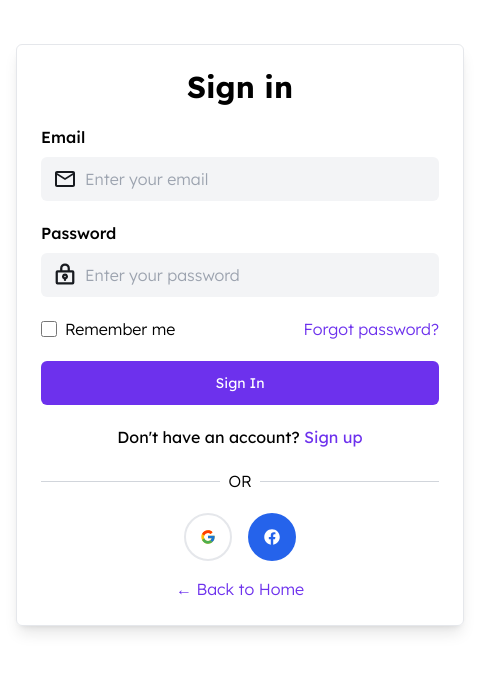
it: SignIn Component › displays error messages for invalid input
Type "invalid-email" into the field with placeholder "Enter your email" at (256, 179), box [85,157,427,201]
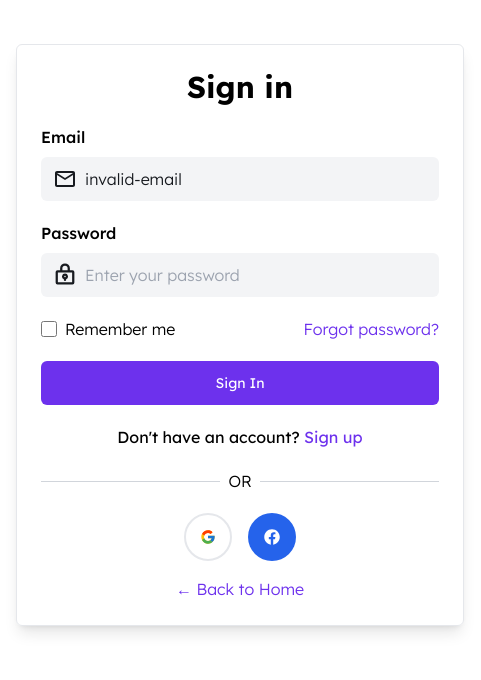
Type "123" into the password field with placeholder "Enter your password" at (256, 275), box [85,253,427,297]
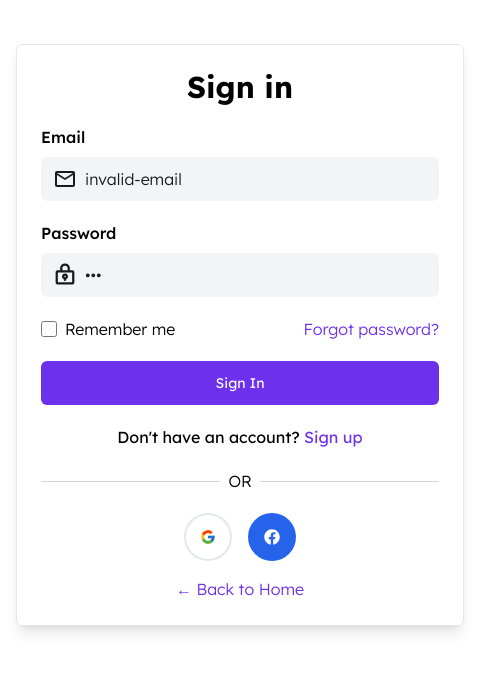
Click the link "Sign In" at (240, 383), box [41,361,439,405]
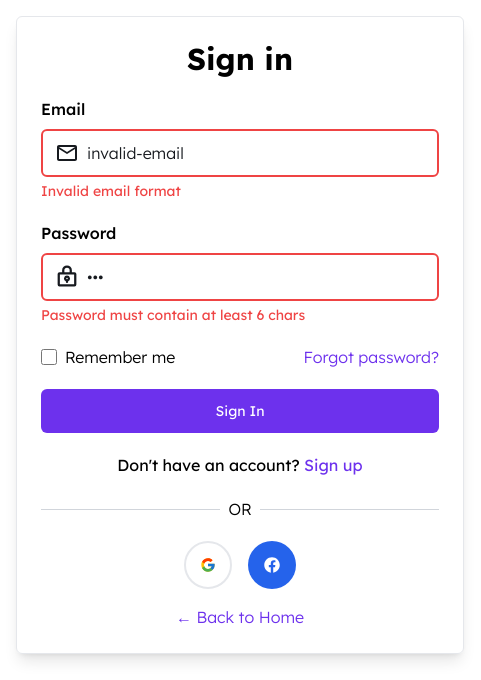
Expected: the text "Invalid email format" is shown, [41,182,181,200]
Expected: the text "Password must contain at least 6 chars" is shown, [41,306,305,324]
